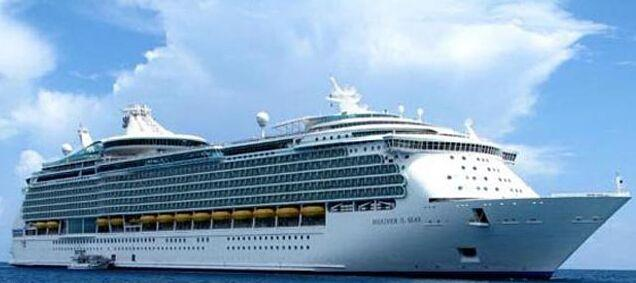youlun: (7, 77, 630, 269)
